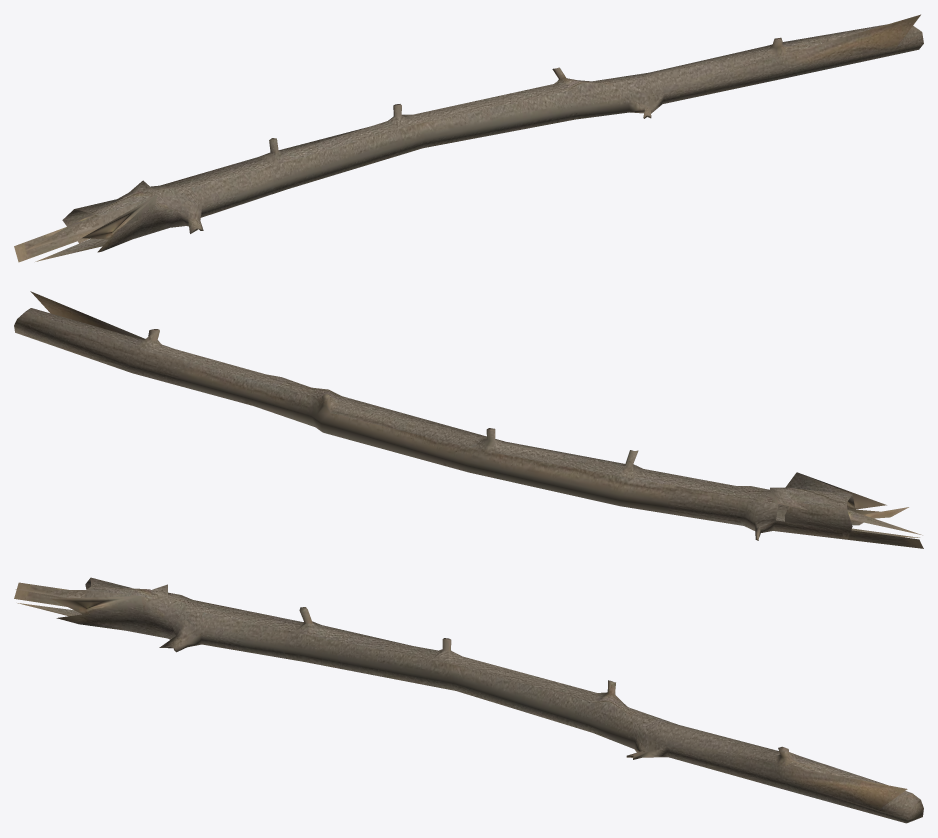
The model's file is club_ground_b.glb.
3 views of the same model, one above another, from view 1: azimuth 30°, elevation 25°; view 2: azimuth 150°, elevation 25°; view 3: azimuth 330°, elevation 25° (orthographic).
Bounding box in the file's own units: 0.5195 × 0.0263 × 0.0555.
1 material, 1 textured.
